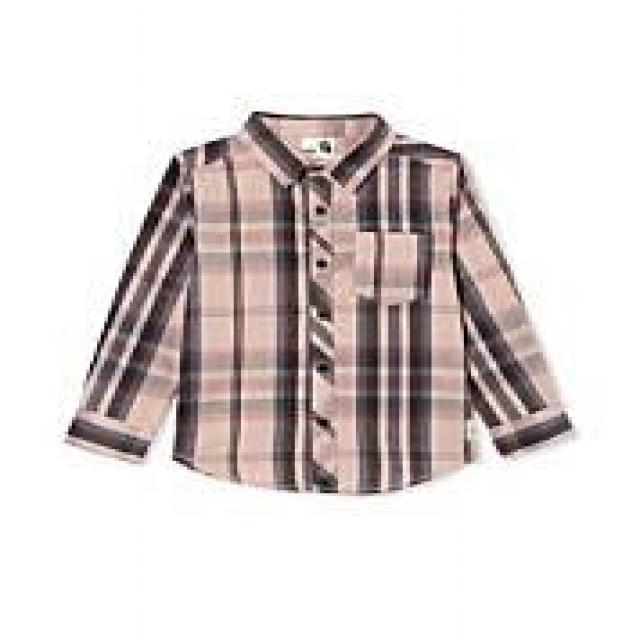plaid: (65, 98, 570, 496)
